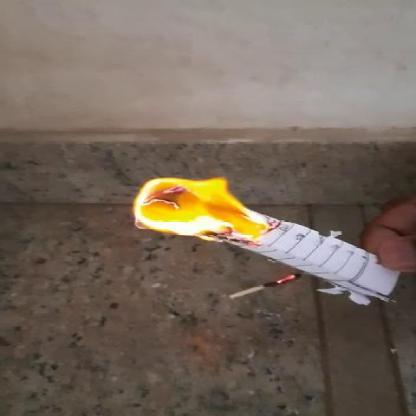Fire: (126, 173, 276, 248)
